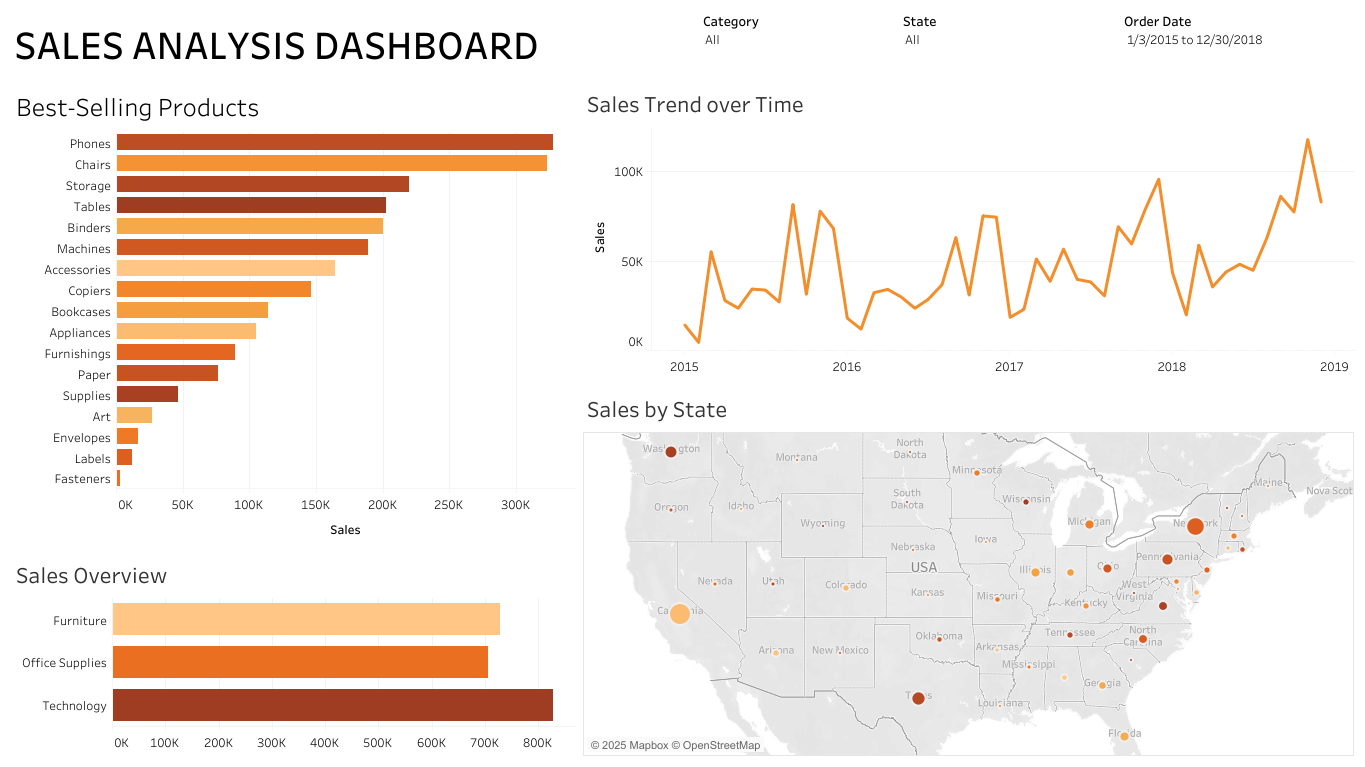

Layout of this report page (visuals, bound fields, positions):
{"tool":"tableau","page":{"name":"Dashboard 1","canvas":[1000,800],"ordinal":0},"visuals":[{"type":"text","box":[8,8,984,74]},{"type":"filter","title":"Sheet 1","param":"[federated.0iujtfl1sepwyw1053wch0xioodw].[none:Category:nk]","box":[538,11,133,59]},{"type":"filter","title":"Sheet 4","param":"[federated.0iujtfl1sepwyw1053wch0xioodw].[none:Order Date:qk]","box":[823,11,168,73]},{"type":"filter","title":"Sheet 3","param":"[federated.0iujtfl1sepwyw1053wch0xioodw].[none:State:nk]","box":[678,14,139,53]},{"type":"worksheet","title":"Sheet 2","mark":"Automatic","rows":["Sub-Category"],"cols":["Sales"],"box":[8,82,416,490.8]},{"type":"worksheet","title":"Sheet 4","mark":"Automatic","rows":["Sales"],"cols":["Order Date"],"box":[424,82,568,318]},{"type":"worksheet","title":"Sheet 3","mark":"Automatic","box":[424,400,568,392]},{"type":"worksheet","title":"Sheet 1","mark":"Automatic","rows":["Category"],"cols":["Sales"],"box":[8,572.8,416,219.2]}]}

Visuals, with their boxes on the page's 1000x800 design canvas (x1, y1, x2, y2). These are canvas units, not pixel positions in the 1365x767 screenshot, which may show the page scaled, cropped or inside an application window:
text: bbox=[8, 8, 992, 82]
"Sheet 1" filter: bbox=[538, 11, 671, 70]
"Sheet 4" filter: bbox=[823, 11, 991, 84]
"Sheet 3" filter: bbox=[678, 14, 817, 67]
"Sheet 2" worksheet: bbox=[8, 82, 424, 573]
"Sheet 4" worksheet: bbox=[424, 82, 992, 400]
"Sheet 3" worksheet: bbox=[424, 400, 992, 792]
"Sheet 1" worksheet: bbox=[8, 573, 424, 792]
